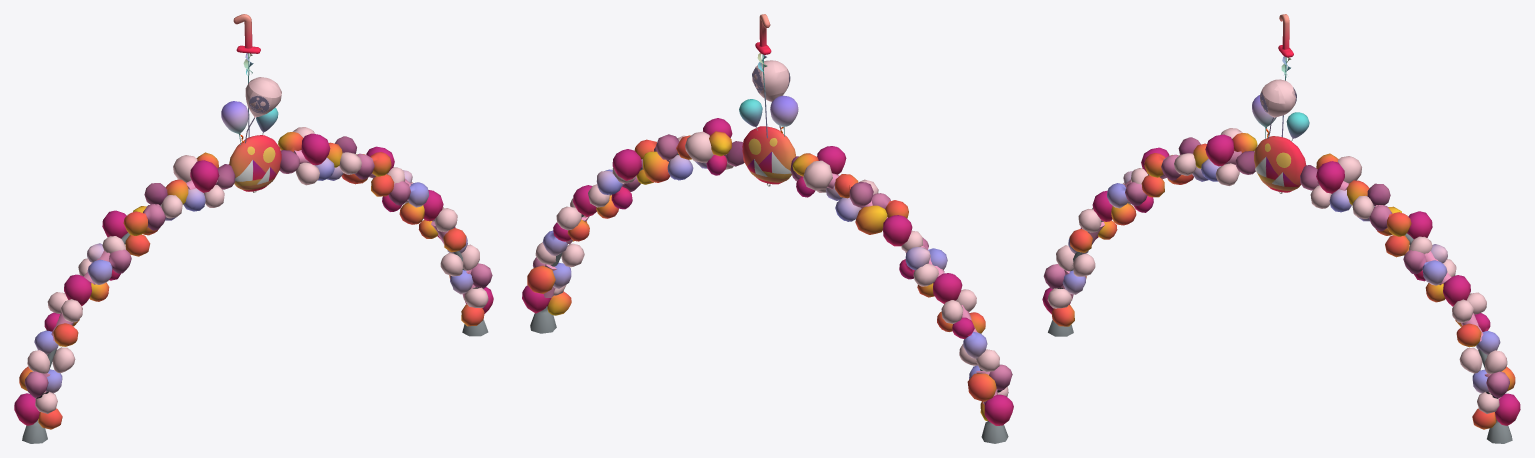
File: pinata_frame.glb
3 views of the same model, side by side, from view 1: azimuth 30°, elevation 25°; view 2: azimuth 150°, elevation 25°; view 3: azimuth 330°, elevation 25° (orthographic). The views are drawn at different scales.
Parts seen in each view (by area): view 1: balloons, SandbagB.006, pinata_frame_logo, pinata_fram_new; view 2: balloons, SandbagB.006, pinata_frame_logo, pinata_fram_new; view 3: balloons, SandbagB.006, pinata_frame_logo, pinata_fram_new.
Boxes of the visible parts, left/top/right/bottom form: balloons: left=14, top=127, right=493, bottom=429; SandbagB.006: left=221, top=14, right=281, bottom=144; pinata_frame_logo: left=229, top=135, right=281, bottom=191; pinata_fram_new: left=22, top=150, right=488, bottom=443; balloons: left=522, top=118, right=1013, bottom=425; SandbagB.006: left=739, top=14, right=798, bottom=138; pinata_frame_logo: left=742, top=126, right=796, bottom=184; pinata_fram_new: left=530, top=153, right=1008, bottom=443; balloons: left=1042, top=128, right=1520, bottom=429; SandbagB.006: left=1252, top=14, right=1309, bottom=141; pinata_frame_logo: left=1254, top=136, right=1305, bottom=192; pinata_fram_new: left=1048, top=151, right=1512, bottom=443.
Size of what is drawn, in the model's own units: 7.4 by 5.43 by 0.8368.
Materials: 3 (3 with a texture image).
